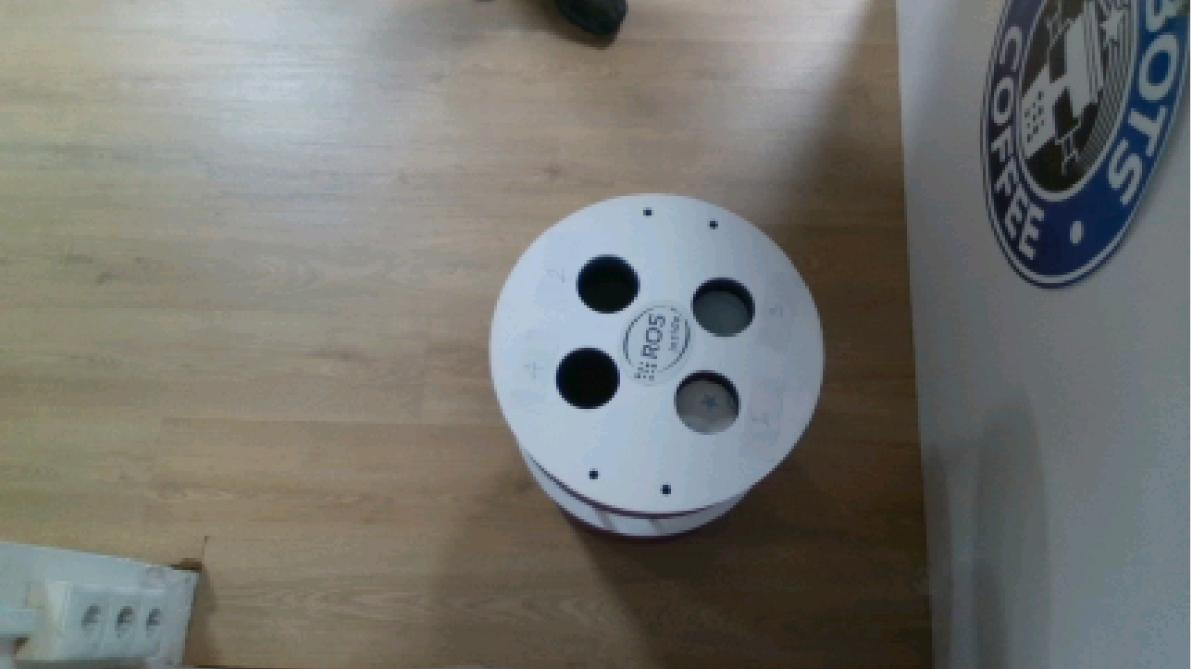hole: (672, 367, 745, 439), (552, 344, 624, 412), (574, 249, 643, 319), (690, 271, 756, 340)
